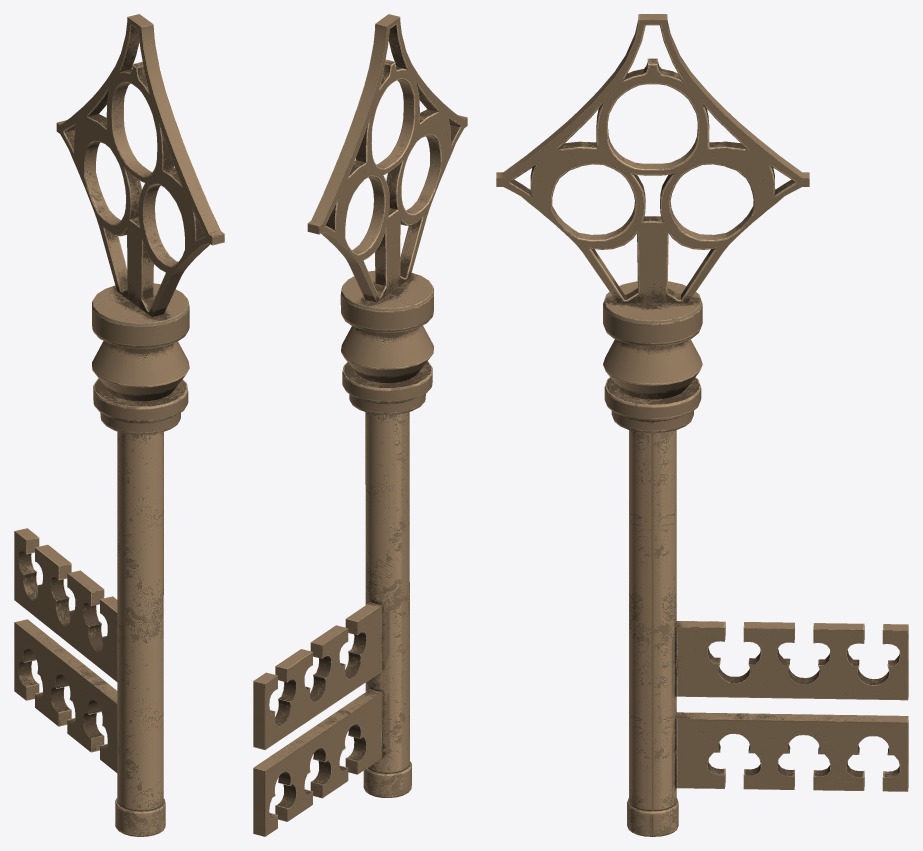
The model's file is Llave.obj.
3 renders of one model, left to right at view 1: azimuth 30°, elevation 25°; view 2: azimuth 150°, elevation 25°; view 3: azimuth 270°, elevation 25°, orthographic. The views are drawn at different scales.
Visible parts, largest first — view 1: Llave1; view 2: Llave1; view 3: Llave1.
Boxes of the visible parts, x1=… form: Llave1: x1=14, y1=14, x2=224, y2=836; Llave1: x1=253, y1=14, x2=467, y2=836; Llave1: x1=496, y1=14, x2=908, y2=836.
Size of the model in its own units: 0.1594 by 1.45 by 0.6697.
1 material, 1 textured.
